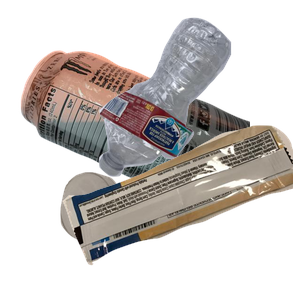glass: (58, 170, 202, 300)
metal: (18, 48, 258, 228)
plastic: (96, 15, 300, 184)
trash: (60, 123, 300, 300)
